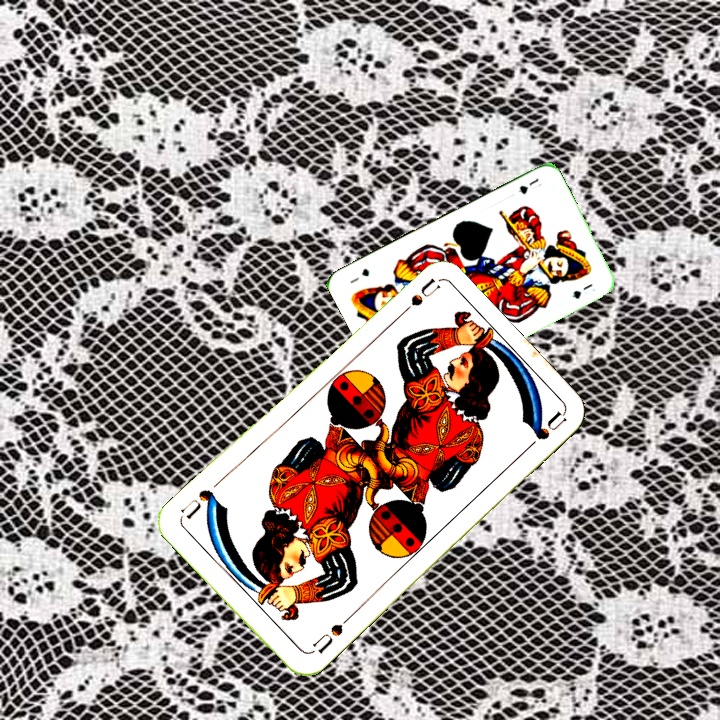GU: (514, 174, 542, 197)
SU: (391, 275, 442, 323), (306, 612, 354, 657)
